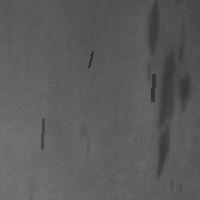inclusion: (148, 3, 194, 184), (141, 1, 161, 84), (74, 115, 96, 161), (40, 116, 45, 150), (150, 72, 155, 103), (86, 50, 94, 69)
